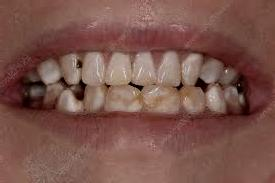Calculus: (101, 79, 144, 115), (140, 84, 179, 118), (176, 84, 204, 123)
Caries: (69, 59, 82, 75)
